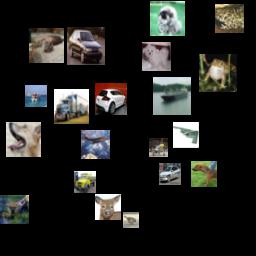airplane: (81, 130, 110, 159), (173, 122, 199, 148), (149, 138, 168, 157)
automobile: (67, 27, 105, 65), (95, 83, 127, 115), (159, 163, 181, 185)
bird: (123, 212, 139, 228)
cat: (29, 28, 64, 63)
deer: (95, 194, 121, 220)
dog: (6, 122, 41, 157), (150, 1, 185, 36), (142, 42, 171, 71), (191, 161, 217, 187)
frog: (199, 54, 237, 92), (215, 4, 244, 33), (0, 195, 29, 224)
ship: (153, 77, 191, 115), (25, 85, 47, 107)
truck: (54, 89, 89, 124), (74, 171, 96, 193)
